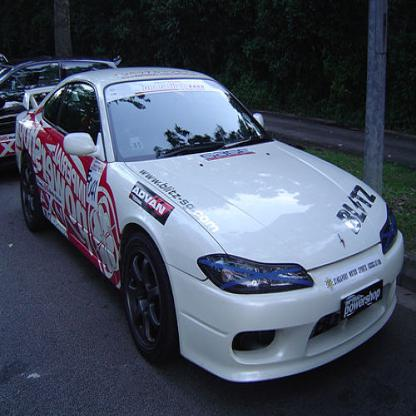car: (14, 65, 405, 385), (0, 54, 128, 171)
